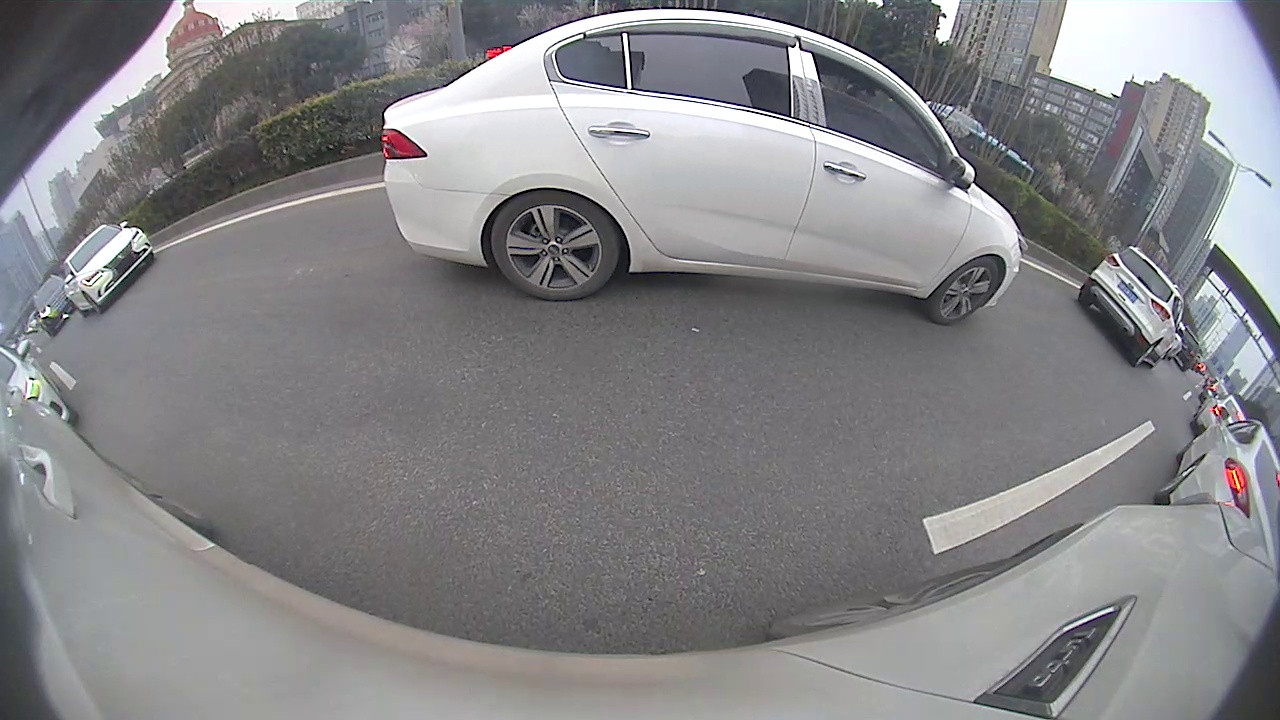car: (378, 8, 1031, 327), (1153, 408, 1277, 549), (1076, 244, 1187, 369), (60, 218, 154, 319)
front: (925, 254, 1007, 328)
rear: (491, 189, 622, 304)
